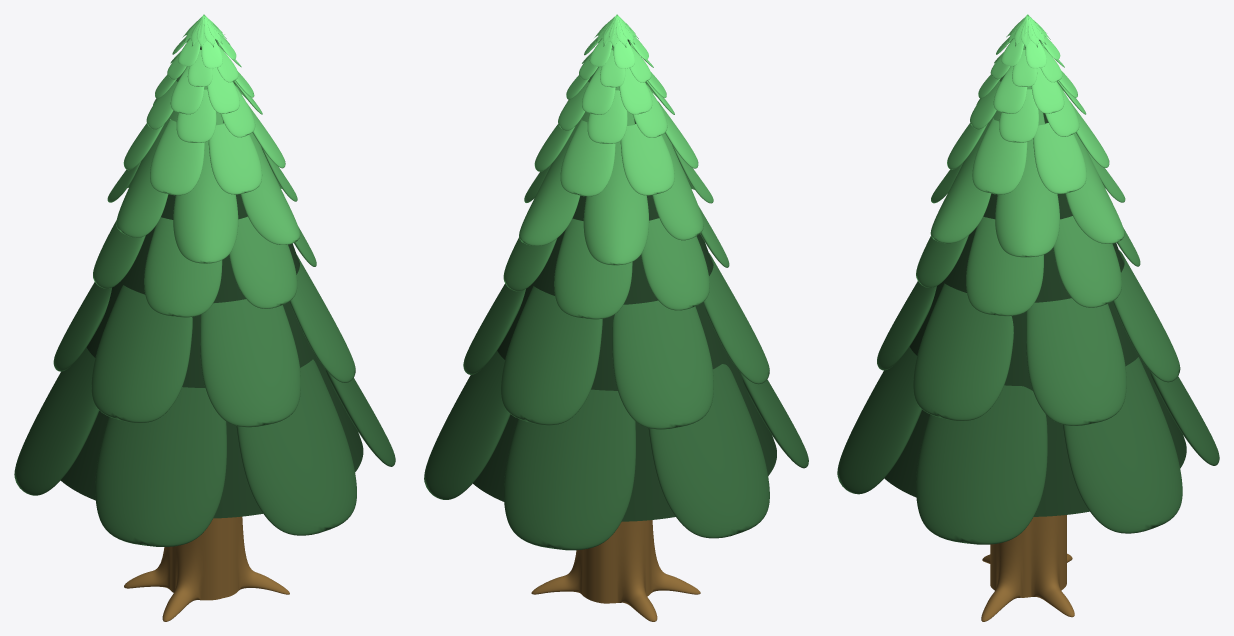
File: Shoot That Bird! Small Pointy Tree.fbx
3 renders of one model, left to right at view 1: azimuth 30°, elevation 25°; view 2: azimuth 150°, elevation 25°; view 3: azimuth 270°, elevation 25°, orthographic.
Visible parts, largest first — view 1: Tall Tree Top Leaf 4.001, Tall Tree Top Leaf 3.001, Tall Tree Top Leaf 2.008, Tall Tree Top Leaf 1.001, Tall Tree Base.001, Tall Tree Top Leaf 2.009, Ball Tree Root.002, Tall Tree Top Leaf 2.011, Tall Tree Top Leaf 2.012, Tall Tree Top Leaf 2.013, Tall Tree Top Leaf 2.014; view 2: Tall Tree Top Leaf 4.001, Tall Tree Top Leaf 3.001, Tall Tree Top Leaf 2.008, Tall Tree Top Leaf 1.001, Tall Tree Base.001, Tall Tree Top Leaf 2.009, Ball Tree Root.002, Tall Tree Top Leaf 2.011, Tall Tree Top Leaf 2.012, Tall Tree Top Leaf 2.013, Tall Tree Top Leaf 2.014; view 3: Tall Tree Top Leaf 4.001, Tall Tree Top Leaf 3.001, Tall Tree Top Leaf 1.001, Tall Tree Top Leaf 2.008, Tall Tree Base.001, Tall Tree Top Leaf 2.009, Ball Tree Root.002, Tall Tree Top Leaf 2.011, Tall Tree Top Leaf 2.012, Tall Tree Top Leaf 2.013, Tall Tree Top Leaf 2.014.
Boxes of the visible parts, left/top/right/bottom form: Tall Tree Top Leaf 4.001: left=14, top=347, right=395, bottom=546; Tall Tree Top Leaf 3.001: left=53, top=255, right=355, bottom=427; Tall Tree Top Leaf 2.008: left=93, top=216, right=316, bottom=317; Tall Tree Top Leaf 1.001: left=107, top=39, right=299, bottom=263; Tall Tree Base.001: left=61, top=39, right=363, bottom=518; Tall Tree Top Leaf 2.009: left=123, top=103, right=285, bottom=195; Ball Tree Root.002: left=124, top=516, right=289, bottom=621; Tall Tree Top Leaf 2.011: left=146, top=80, right=262, bottom=142; Tall Tree Top Leaf 2.012: left=155, top=66, right=254, bottom=114; Tall Tree Top Leaf 2.013: left=167, top=41, right=241, bottom=86; Tall Tree Top Leaf 2.014: left=172, top=35, right=236, bottom=68; Tall Tree Top Leaf 4.001: left=424, top=351, right=808, bottom=550; Tall Tree Top Leaf 3.001: left=463, top=253, right=769, bottom=429; Tall Tree Top Leaf 2.008: left=503, top=206, right=729, bottom=319; Tall Tree Top Leaf 1.001: left=519, top=44, right=713, bottom=265; Tall Tree Base.001: left=473, top=39, right=776, bottom=521; Tall Tree Top Leaf 2.009: left=534, top=101, right=698, bottom=196; Ball Tree Root.002: left=531, top=520, right=700, bottom=621; Tall Tree Top Leaf 2.011: left=558, top=81, right=674, bottom=143; Tall Tree Top Leaf 2.012: left=566, top=66, right=666, bottom=114; Tall Tree Top Leaf 2.013: left=579, top=41, right=653, bottom=87; Tall Tree Top Leaf 2.014: left=584, top=36, right=648, bottom=68; Tall Tree Top Leaf 4.001: left=837, top=347, right=1219, bottom=544; Tall Tree Top Leaf 3.001: left=877, top=250, right=1180, bottom=425; Tall Tree Top Leaf 1.001: left=930, top=41, right=1125, bottom=257; Tall Tree Top Leaf 2.008: left=916, top=216, right=1140, bottom=316; Tall Tree Base.001: left=884, top=40, right=1186, bottom=516; Tall Tree Top Leaf 2.009: left=947, top=101, right=1109, bottom=194; Ball Tree Root.002: left=981, top=515, right=1074, bottom=621; Tall Tree Top Leaf 2.011: left=970, top=80, right=1086, bottom=142; Tall Tree Top Leaf 2.012: left=978, top=66, right=1077, bottom=113; Tall Tree Top Leaf 2.013: left=990, top=41, right=1064, bottom=86; Tall Tree Top Leaf 2.014: left=996, top=36, right=1060, bottom=68.
Bounding box in the file's own units: 1323 × 2279 × 1368.
